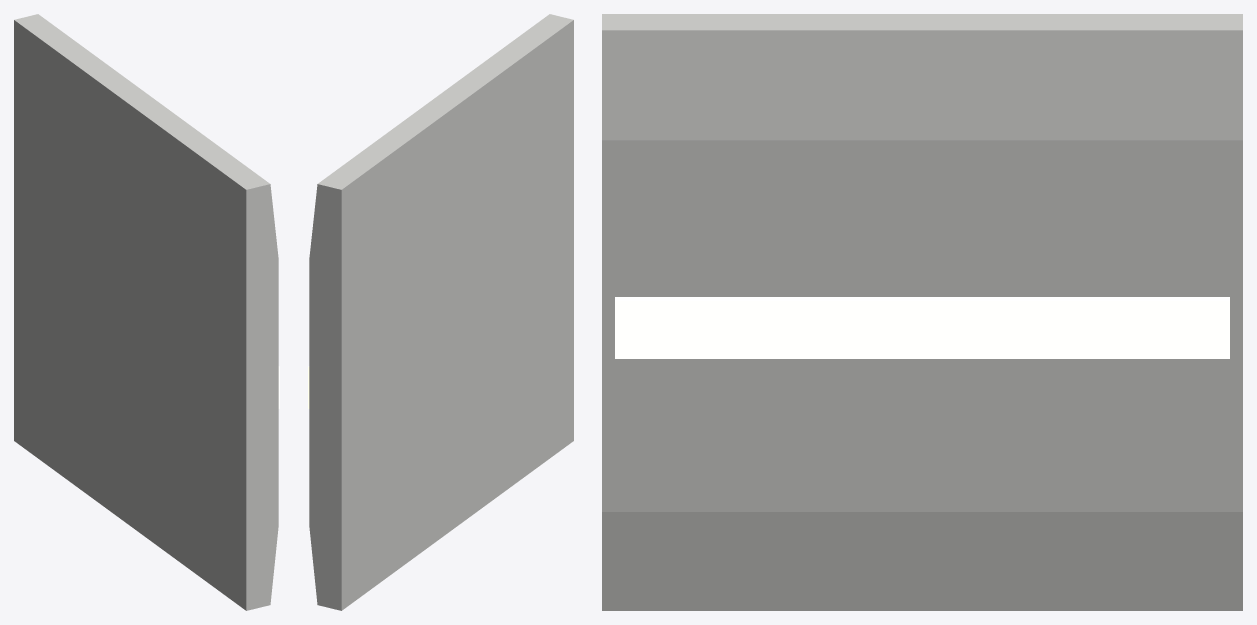
The model's file is SM_SB_Kit_Fascia.fbx.
The picture shows the model from 3 angles, left to right: view 1: azimuth 30°, elevation 25°; view 2: azimuth 150°, elevation 25°; view 3: azimuth 270°, elevation 25°; orthographic projection. The views are drawn at different scales.
Parts seen in each view (by area): view 1: SM_SB_Kit_Fascia; view 2: SM_SB_Kit_Fascia; view 3: SM_SB_Kit_Fascia.
Part boxes in pixels (x1,y1,x2,y2): SM_SB_Kit_Fascia: [14, 14, 279, 610]; SM_SB_Kit_Fascia: [308, 14, 573, 610]; SM_SB_Kit_Fascia: [602, 14, 1242, 610].
Size of the model in its own units: 9.5 by 100 by 100.
